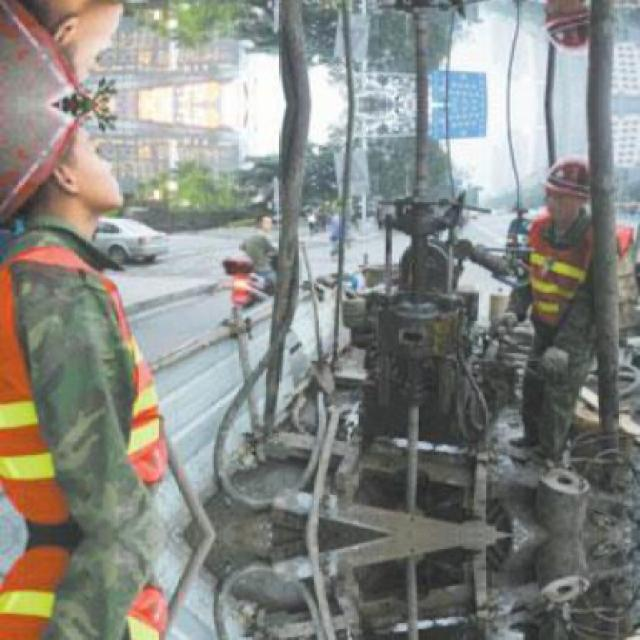helmet: (3, 114, 140, 245), (3, 0, 142, 97), (545, 151, 589, 214), (544, 0, 590, 60)
